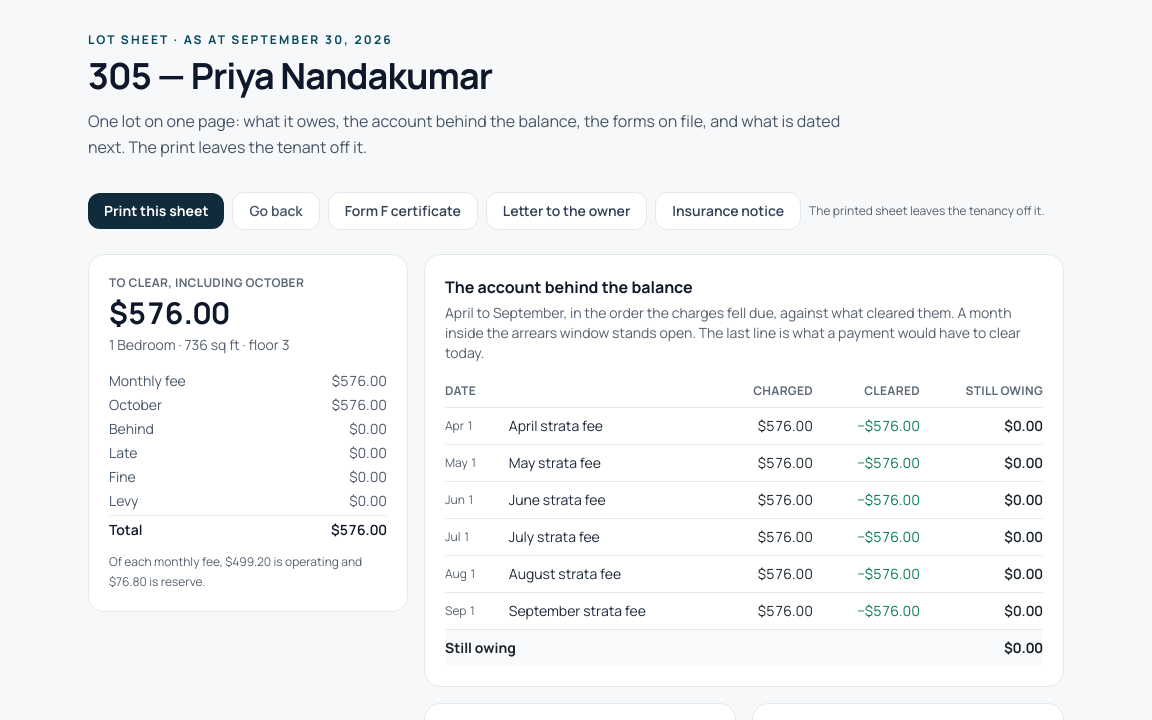
Scenario: /units/[lot] — the Form F certificate › issues lot 305’s certificate and prints October as not yet due
What coordinates should you click on to do the following:
click the button "Form F certificate"
I would click on:
 (403, 211)
Its box is [328,192,478,230].
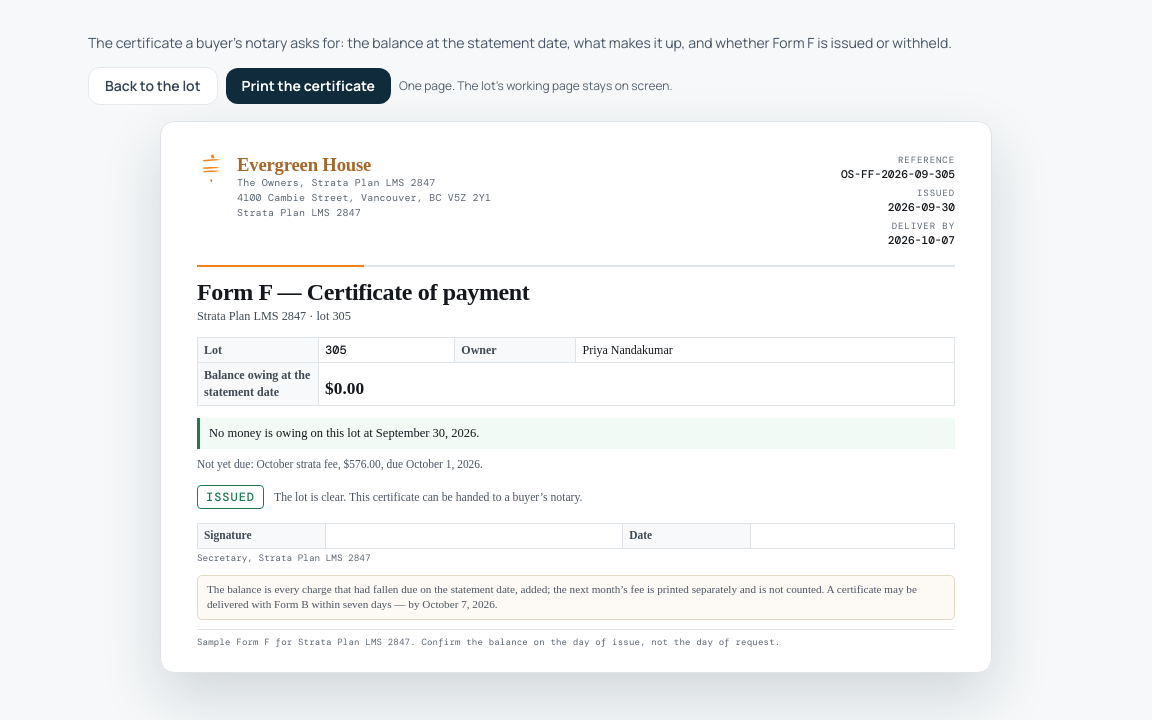
Now the element with class "ff-doc" shows "Issued", box [917,187,955,199]
Now the element with class "ff-doc" shows "$0.00", box [325,379,364,398]
Now the element with class "ff-doc" shows "Not yet due", box [197,458,483,470]
